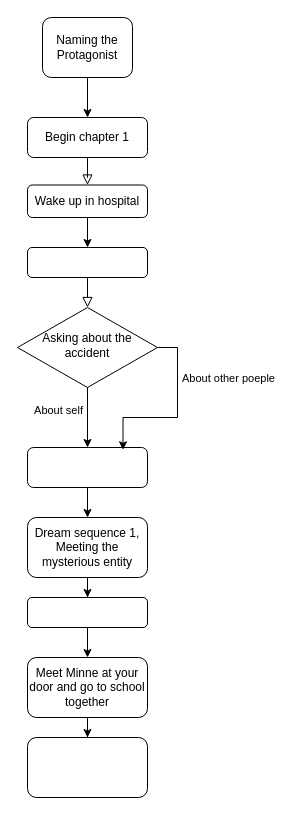
Image size: 292x815. Some labels were removed from this diagram. Each missing label, with the centre of its shape:
"Doctor comes, Minne leaves" belongs at pixel 87 467.
"Meets friend (Minne)" belongs at pixel 87 262.
"Start chapter 2" belongs at pixel 87 612.
